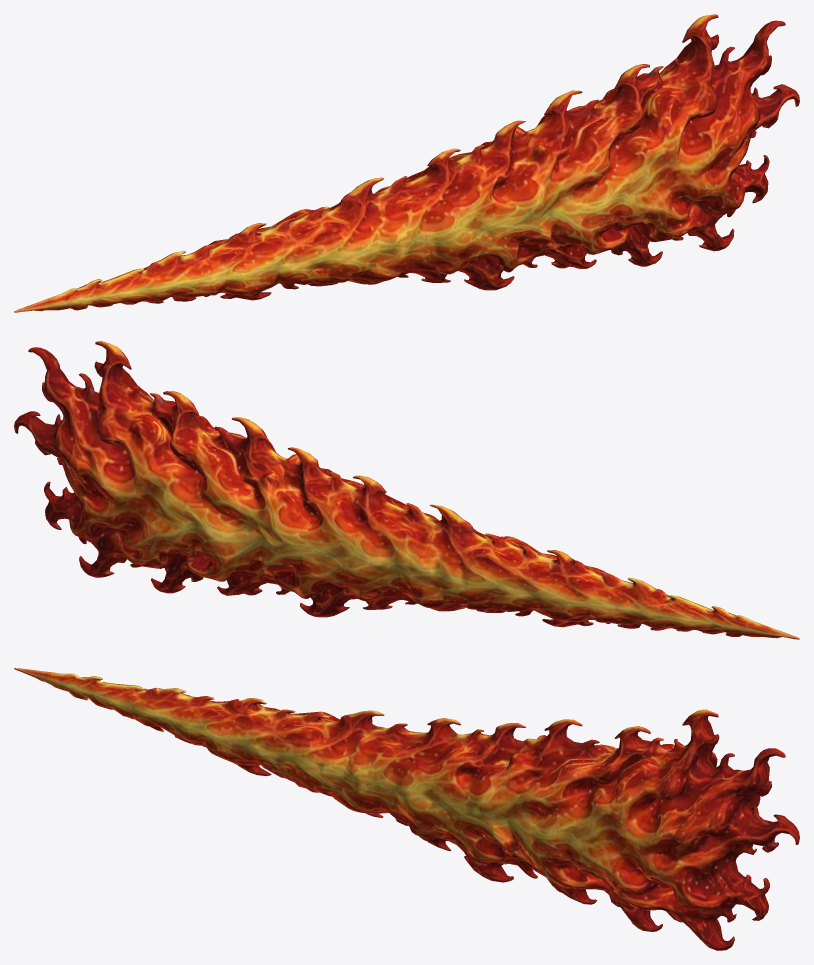
File: dragon_fire_medium.glb
3 views of the same model, one above another, from view 1: azimuth 30°, elevation 25°; view 2: azimuth 150°, elevation 25°; view 3: azimuth 330°, elevation 25° (orthographic).
Bounding box in the file's own units: 1.9 × 0.5488 × 0.2423.
Materials: 1 (1 with a texture image).
